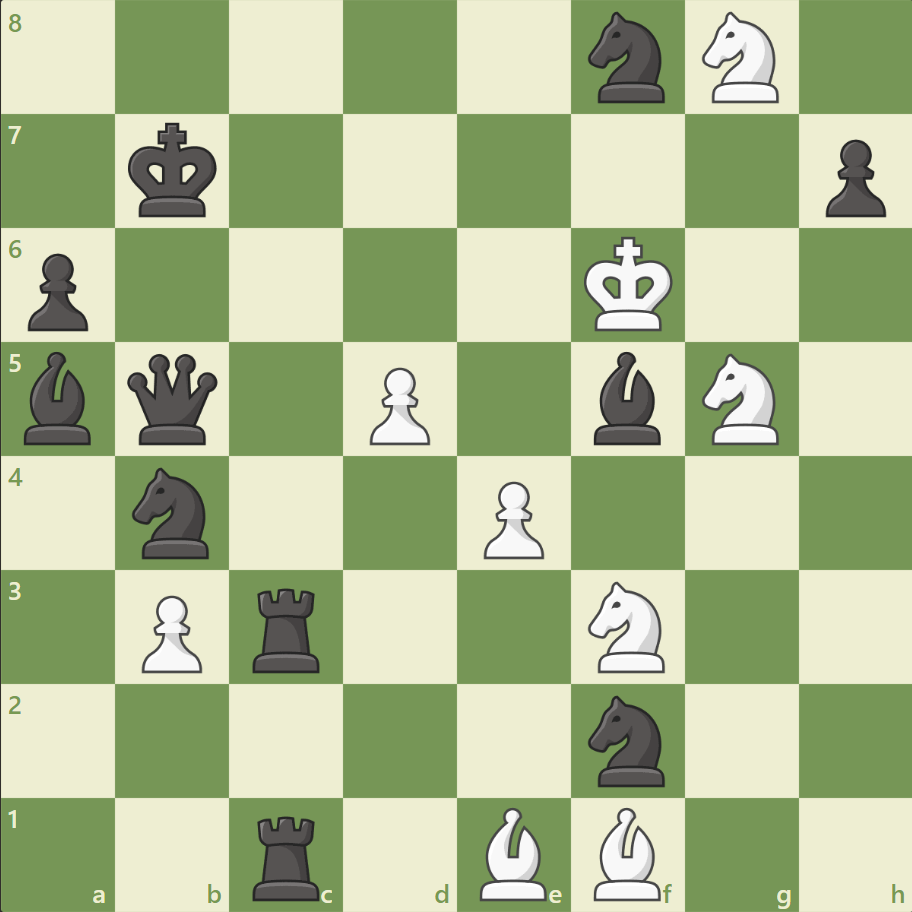B: (471, 801, 555, 904), (585, 801, 669, 904)
K: (579, 231, 679, 339)
N: (692, 7, 789, 110), (692, 348, 789, 450), (579, 575, 676, 677)
P: (474, 473, 549, 564), (133, 586, 208, 677), (361, 359, 435, 450)
b: (17, 347, 101, 449), (585, 347, 669, 449)
k: (124, 117, 224, 225)
n: (124, 461, 222, 564), (579, 7, 676, 110), (579, 688, 676, 791)
p: (20, 246, 95, 337), (815, 132, 889, 223)
q: (124, 349, 223, 449)
r: (246, 806, 329, 904), (246, 579, 329, 676)
